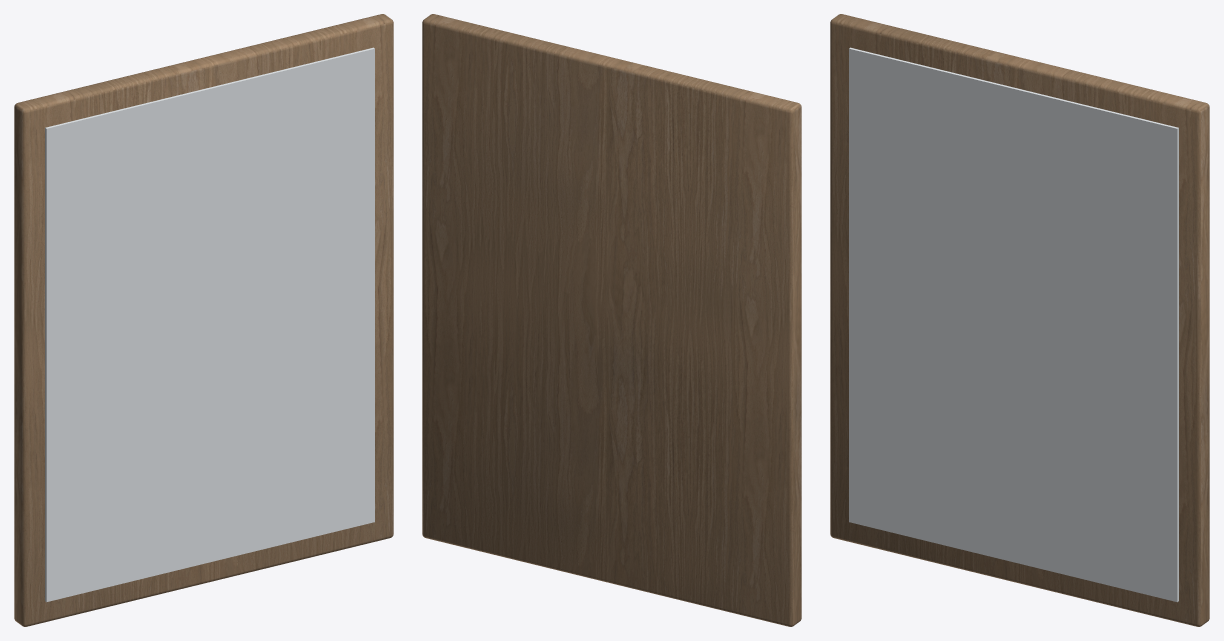
The model's file is BathMirror.glb.
3 views of the same model, side by side, from view 1: azimuth 30°, elevation 25°; view 2: azimuth 150°, elevation 25°; view 3: azimuth 330°, elevation 25° (orthographic).
Visible parts, largest first — view 1: BathMirror; view 2: BathMirror; view 3: BathMirror.
Boxes of the visible parts, x1=… form: BathMirror: x1=14, y1=14, x2=393, y2=626; BathMirror: x1=422, y1=14, x2=801, y2=626; BathMirror: x1=830, y1=14, x2=1209, y2=626.
Bounding box in the file's own units: 0.6 × 0.8 × 0.034.
Materials: 2 (1 with a texture image).
